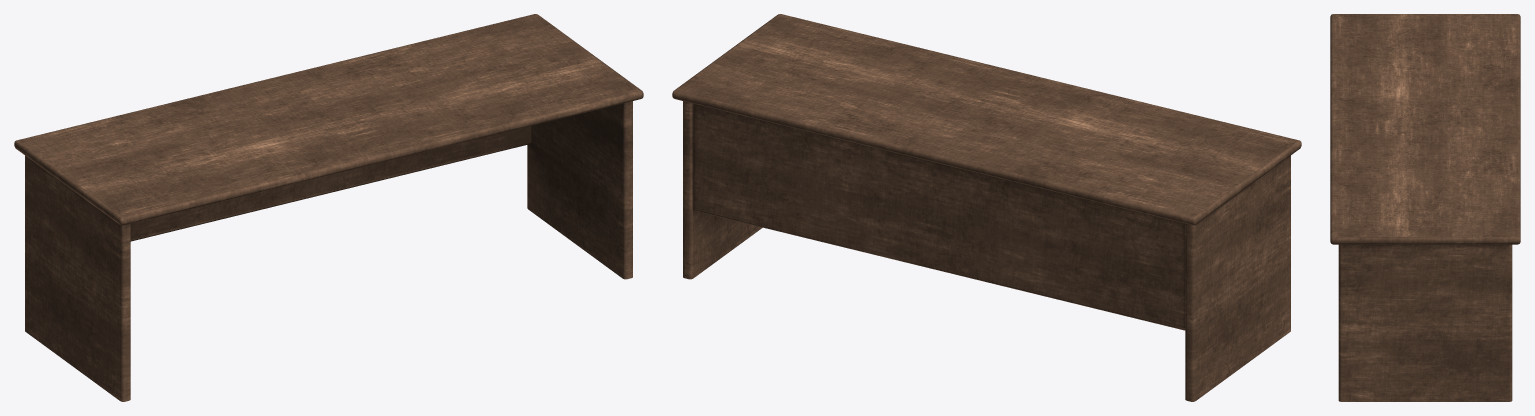
The model's file is table1.glb.
The picture shows the model from 3 angles, left to right: view 1: azimuth 30°, elevation 25°; view 2: azimuth 150°, elevation 25°; view 3: azimuth 270°, elevation 25°; orthographic projection. The views are drawn at different scales.
Visible parts, largest first — view 1: Cube.004; view 2: Cube.004; view 3: Cube.004.
Boxes of the visible parts, x1,y1,x2,y2 form: Cube.004: (14, 14, 643, 401); Cube.004: (672, 14, 1301, 401); Cube.004: (1330, 14, 1520, 401).
Bounding box in the file's own units: 1.67 × 0.5753 × 0.5971.
1 material, 1 textured.
